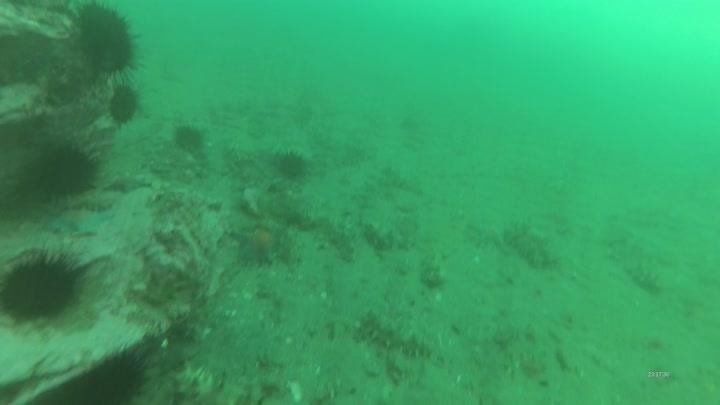echinus: (1, 248, 86, 327), (71, 2, 144, 82), (29, 139, 102, 202), (73, 347, 151, 404), (105, 81, 142, 127), (273, 148, 311, 182), (170, 122, 207, 155)
holothurian: (354, 309, 434, 361), (166, 362, 251, 404), (358, 217, 414, 254)
starfish: (231, 219, 287, 267), (43, 205, 113, 239), (102, 170, 153, 197)
